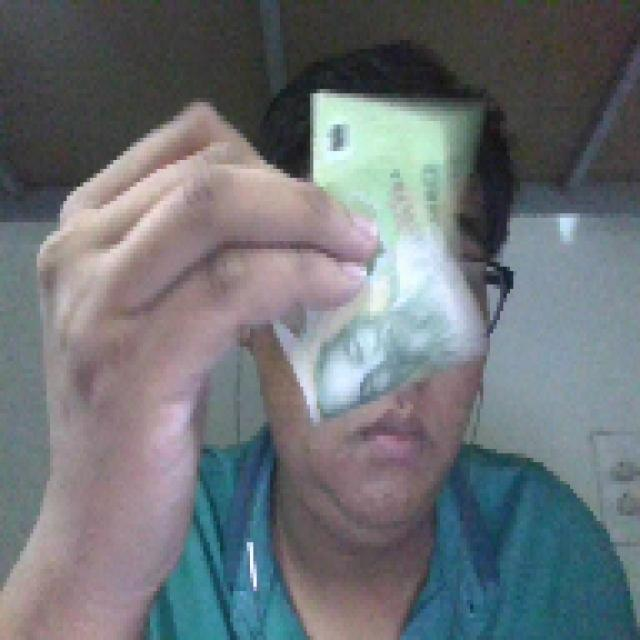100 000 VND: (277, 80, 493, 427)
